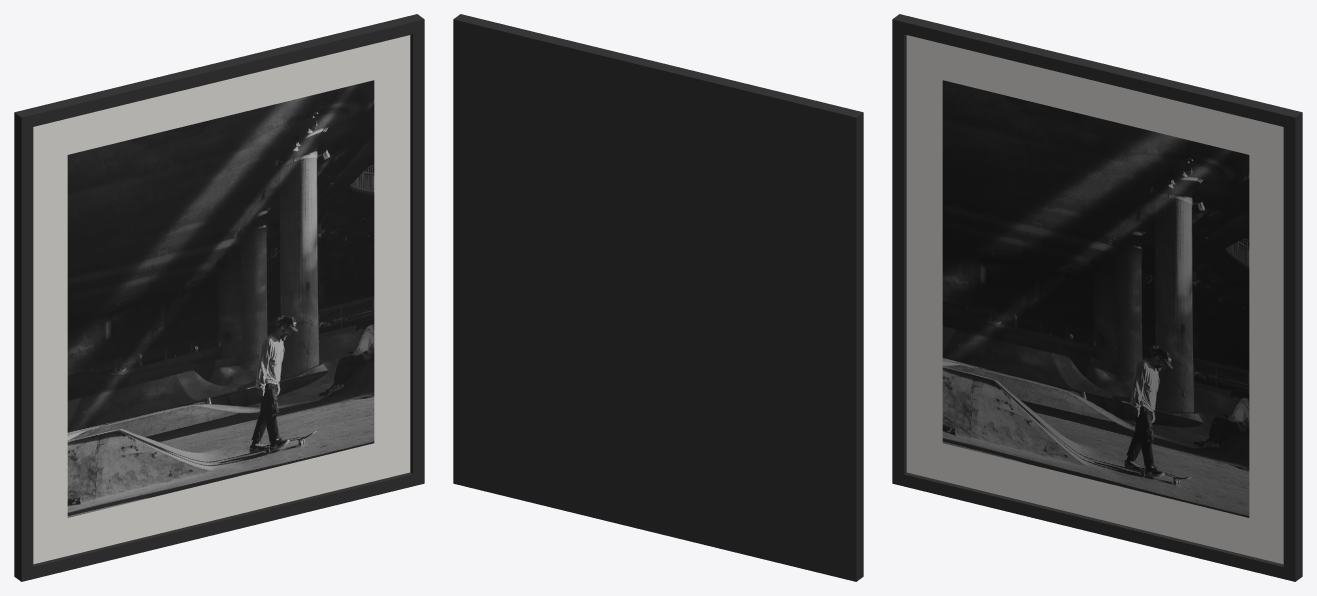
The model's file is ljusstrimman-60.gltf.
3 views of the same model, side by side, from view 1: azimuth 30°, elevation 25°; view 2: azimuth 150°, elevation 25°; view 3: azimuth 330°, elevation 25° (orthographic).
Parts seen in each view (by area): view 1: tavla; view 2: tavla; view 3: tavla.
Boxes of the visible parts, x1=… form: tavla: x1=14, y1=14, x2=424, y2=581; tavla: x1=453, y1=14, x2=863, y2=581; tavla: x1=892, y1=14, x2=1302, y2=581.
Bounding box in the file's own units: 0.6971 × 0.7672 × 0.022.
3 materials, 1 textured.
